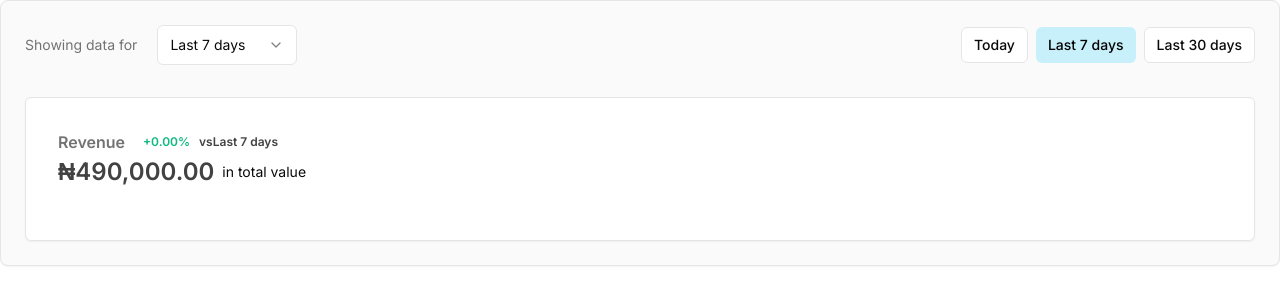
Test: RevenueChart › changes period when buttons are clicked
The width and height of the screenshot is (1280, 283).
// Click 'Today' button
What coordinates should you click on to do the following:
click the button "Today"
I would click on:
 (994, 45)
Its box is x1=961 y1=27 x2=1028 y2=63.
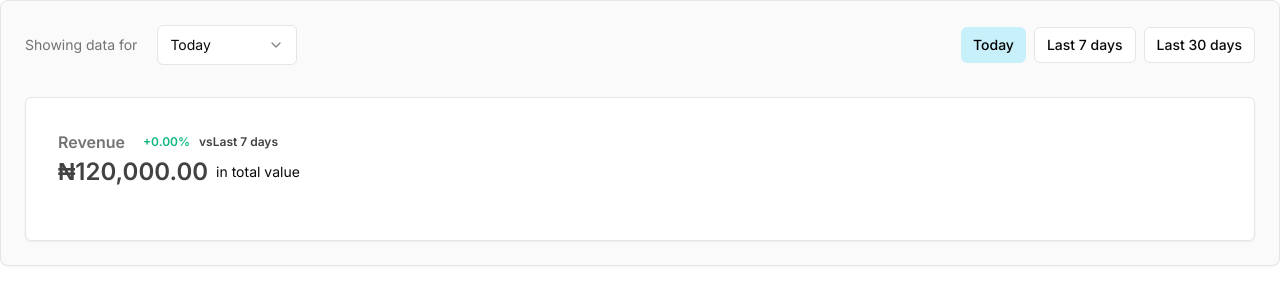
Expected: the text "₦120,000.00" is shown, x1=58 y1=156 x2=208 y2=188
// Click 'Last 30 days' button
What coordinates should you click on to do the following:
click the button "Last 30 days"
I would click on:
 (1199, 45)
Its box is x1=1144 y1=27 x2=1255 y2=63.
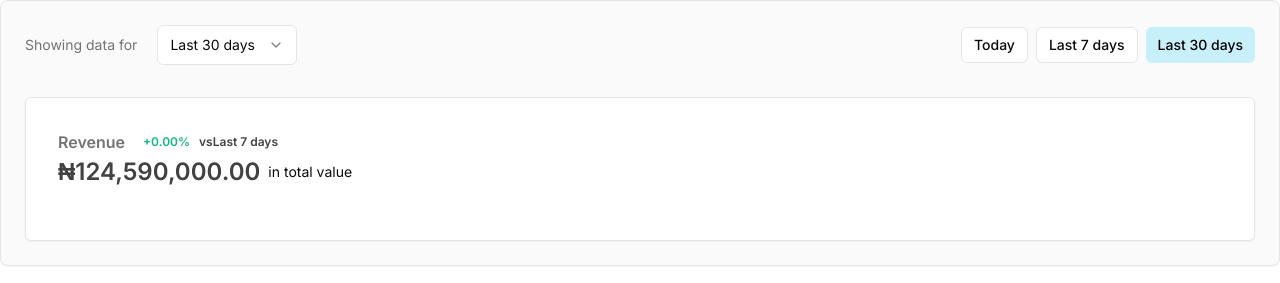
Expected: the text "₦124,590,000.00" is shown, x1=58 y1=156 x2=260 y2=188
